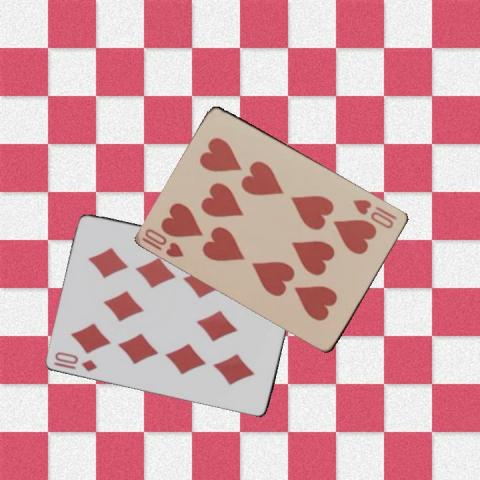10d: (52, 348, 99, 373)
10h: (350, 196, 399, 230), (139, 225, 186, 259)
